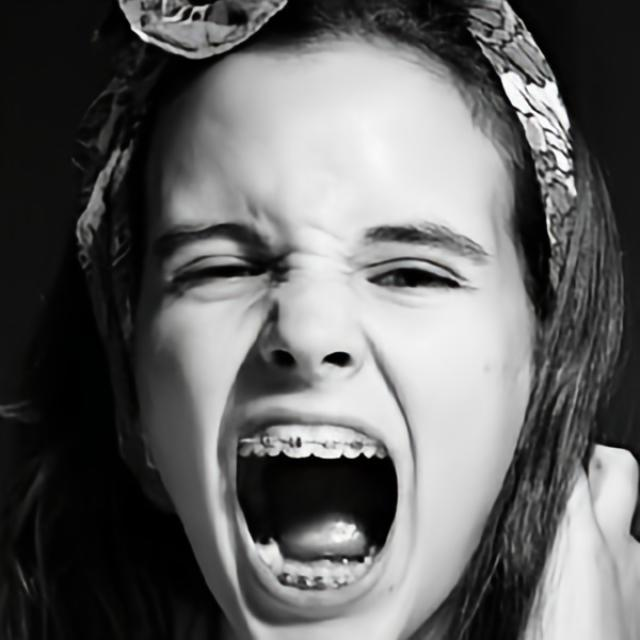anger: (135, 104, 537, 640)
